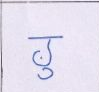u_matra: (38, 67, 55, 80)
